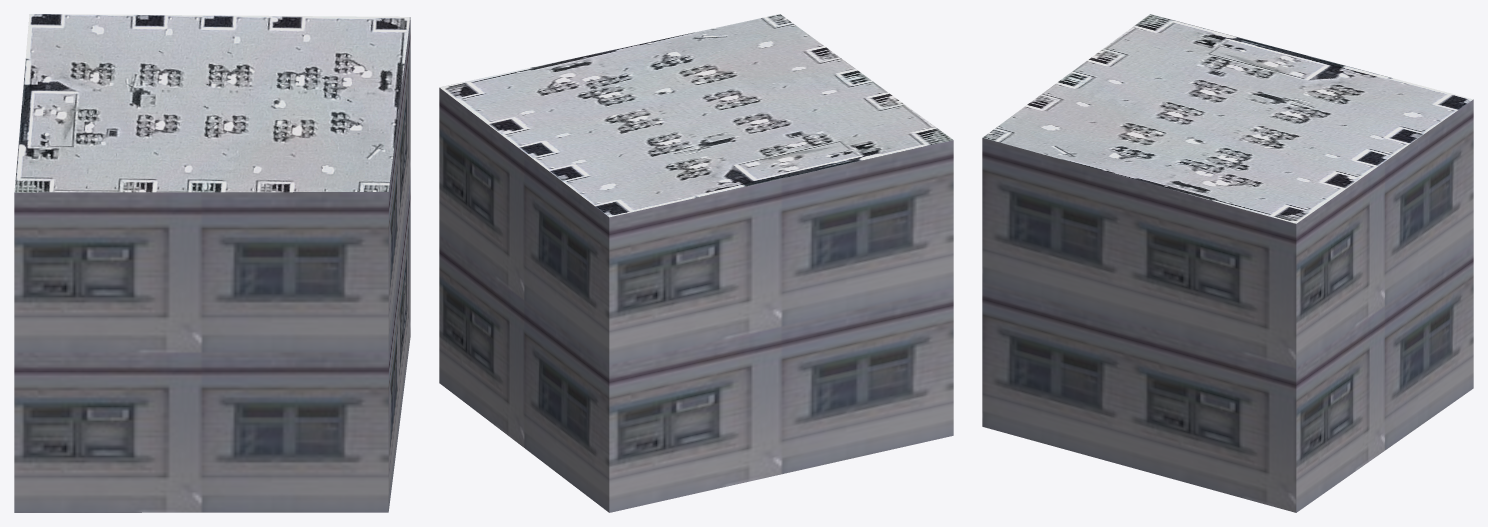
The model's file is ResTex__3449.fbx.
3 views of the same model, side by side, from view 1: azimuth 30°, elevation 25°; view 2: azimuth 150°, elevation 25°; view 3: azimuth 270°, elevation 25° (orthographic). The views are drawn at different scales.
Visible parts, largest first — view 1: CityEngineMaterial_1_m, CityEngineMaterial_m; view 2: CityEngineMaterial_1_m, CityEngineMaterial_m; view 3: CityEngineMaterial_1_m, CityEngineMaterial_m.
Boxes of the visible parts, x1,y1,x2,y2 form: CityEngineMaterial_1_m: [14, 17, 410, 512]; CityEngineMaterial_m: [14, 14, 410, 192]; CityEngineMaterial_1_m: [439, 88, 953, 512]; CityEngineMaterial_m: [439, 14, 953, 217]; CityEngineMaterial_1_m: [982, 99, 1473, 512]; CityEngineMaterial_m: [982, 14, 1472, 223].
Size of the model in its own units: 9.35 by 6 by 9.24.
Materials: 2 (2 with a texture image).
